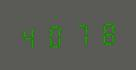eight: (93, 18, 117, 47)
four: (18, 22, 42, 51)
seven: (68, 19, 92, 48)
zero: (43, 21, 67, 49)
